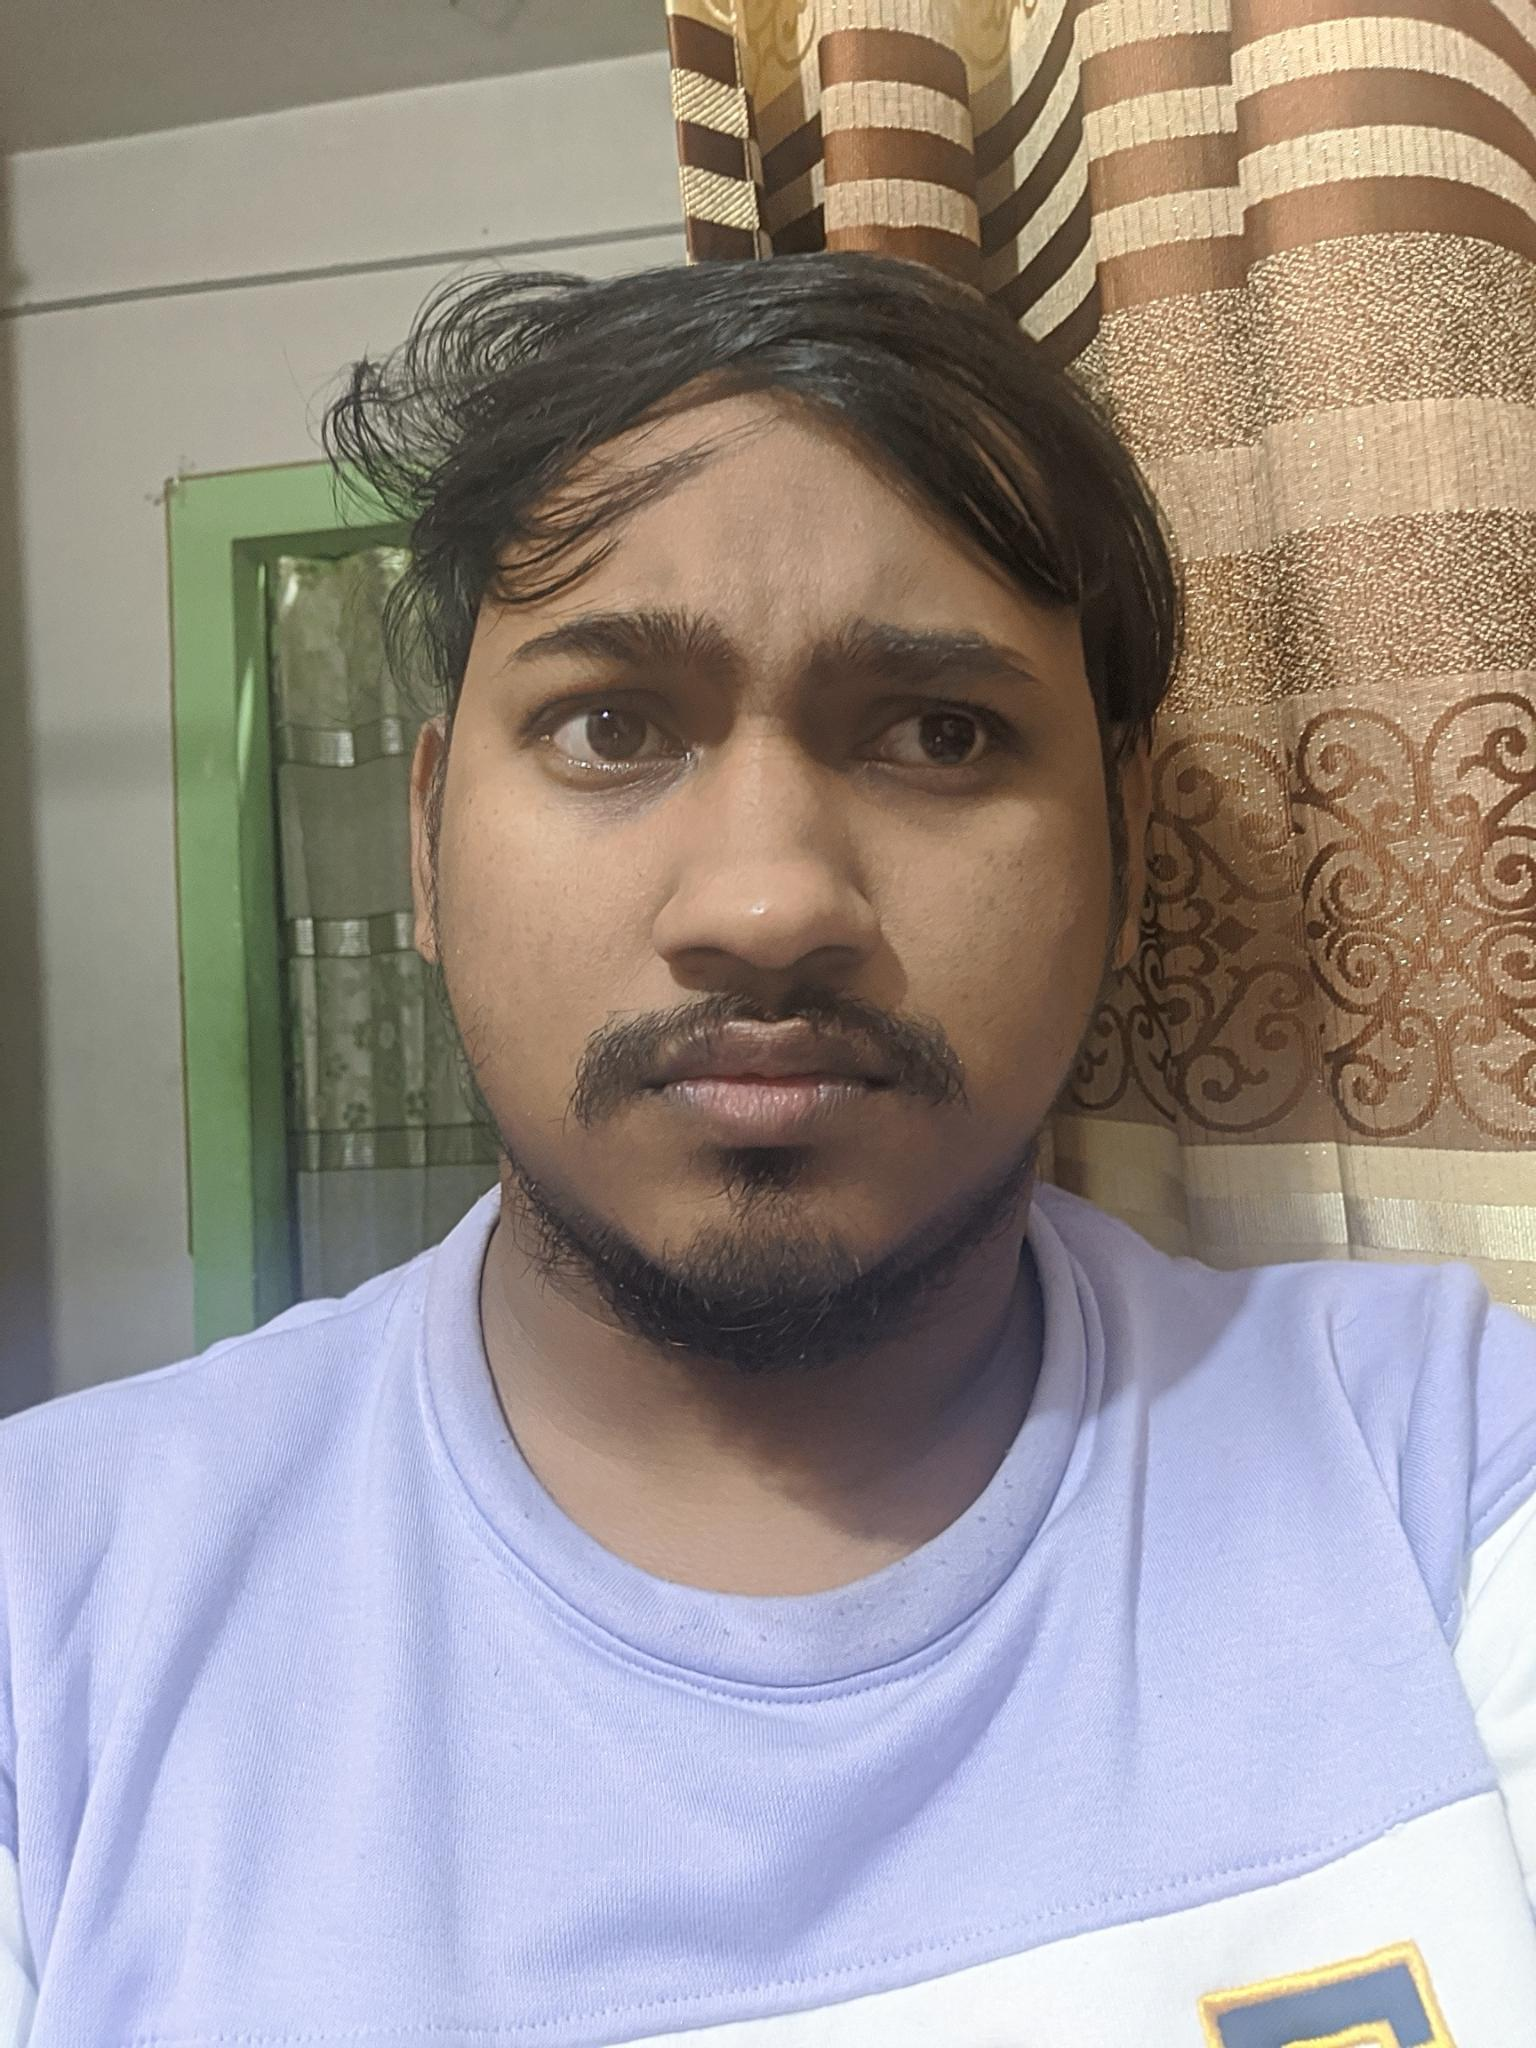Angry: (463, 516, 1105, 1293)
